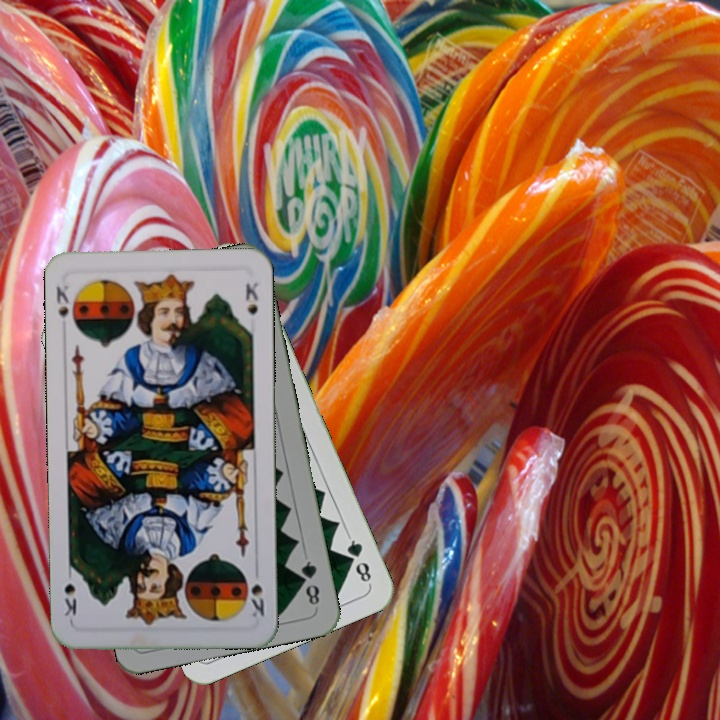G8: (343, 531, 374, 587), (296, 556, 322, 608)
SK: (246, 563, 267, 622), (52, 282, 72, 321)
